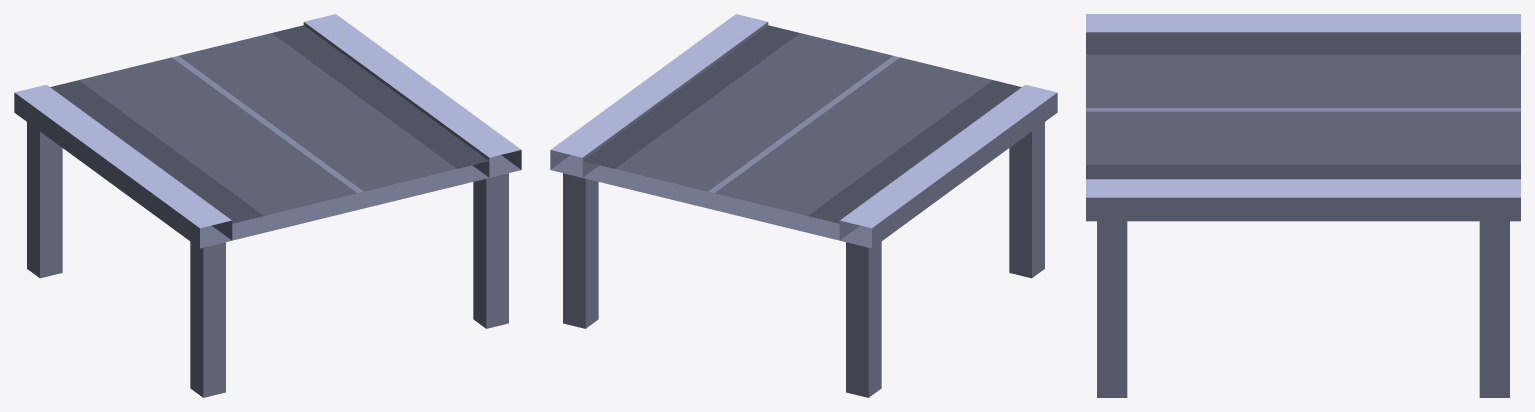
Rendered from road-bridge.glb.
3 views of the same model, side by side, from view 1: azimuth 30°, elevation 25°; view 2: azimuth 150°, elevation 25°; view 3: azimuth 270°, elevation 25° (orthographic). The views are drawn at different scales.
Visible parts, largest first — view 1: road-bridge; view 2: road-bridge; view 3: road-bridge.
Part boxes in pixels (x1,y1,x2,y2): road-bridge: [14, 14, 521, 397]; road-bridge: [550, 14, 1057, 397]; road-bridge: [1086, 14, 1520, 397].
Bounding box in the file's own units: 1 × 0.52 × 1.
1 material, 1 textured.
